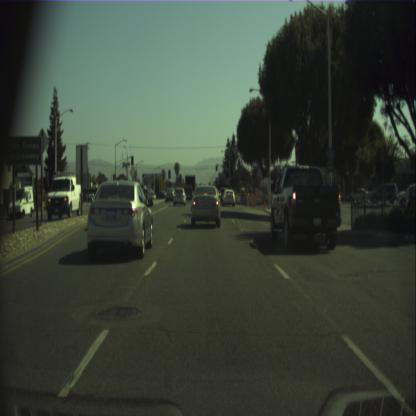GreenLeft: (168, 182, 170, 189)
Red: (250, 172, 252, 178), (216, 164, 217, 170), (228, 178, 229, 182)
off: (168, 170, 170, 178)
